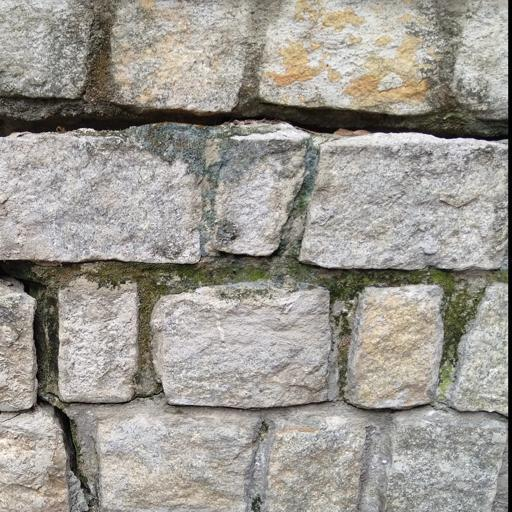major_crack: (0, 81, 512, 149), (1, 245, 102, 512)
